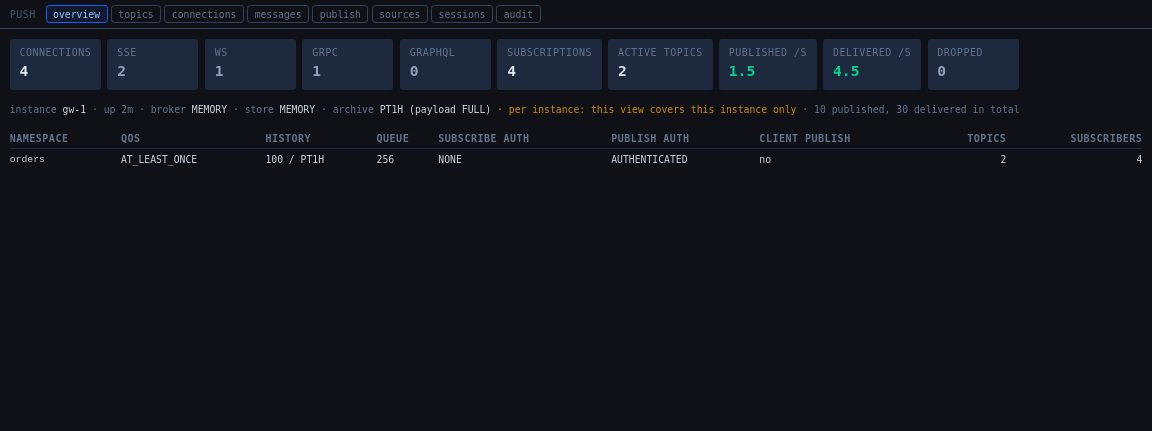
PushPanel › shows the deliveries of the selected event and exports the query as NDJSON from the push path
Click the button "messages" at (278, 14), box [247,5,309,23]
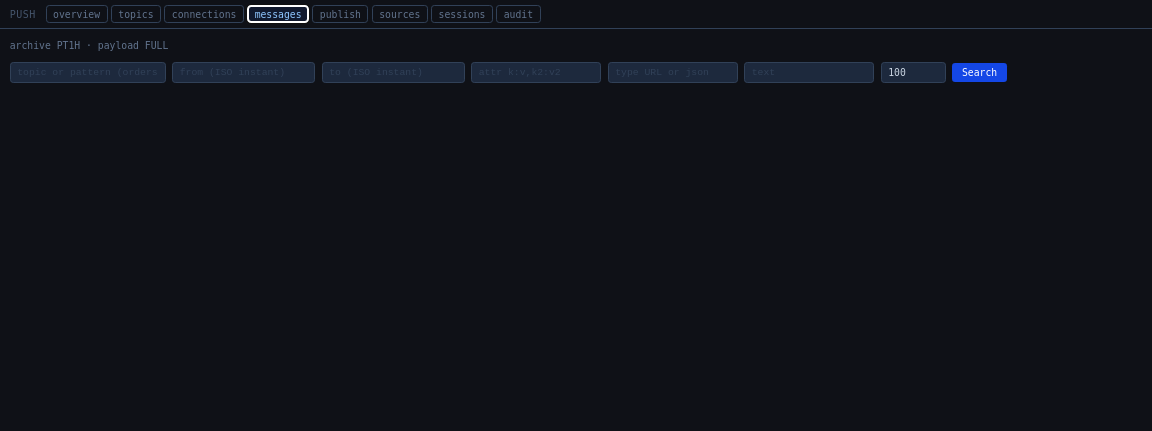
Type "orders:*" into the field labelled "topic or pattern (orders:*)" at (88, 72), box [10,62,166,83]
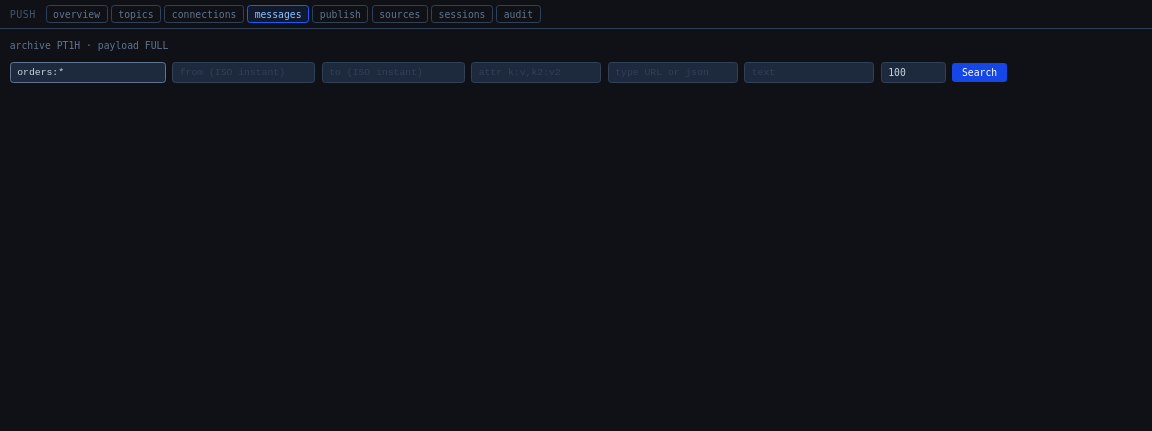
Click the button "Search" at (980, 72), box [952,62,1007,82]
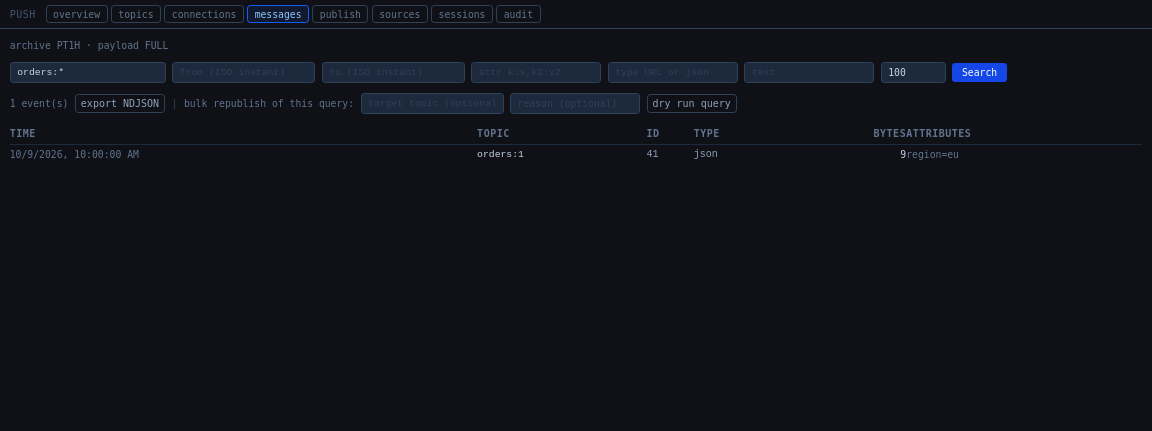
Click the text "region=eu" at (933, 155), box [906,144,1142,164]
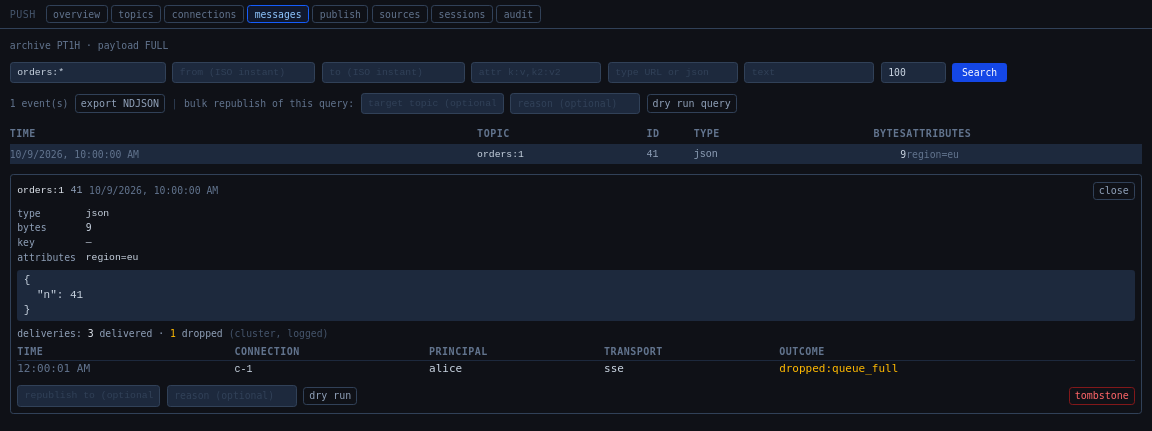
expect the text "dropped:queue_full" is shown: met, box [779,360,1135,379]
expect the text "c-1" is shown: met, box [234,360,429,379]
Click the button "export NDJSON" at (120, 104), box [75,94,165,113]
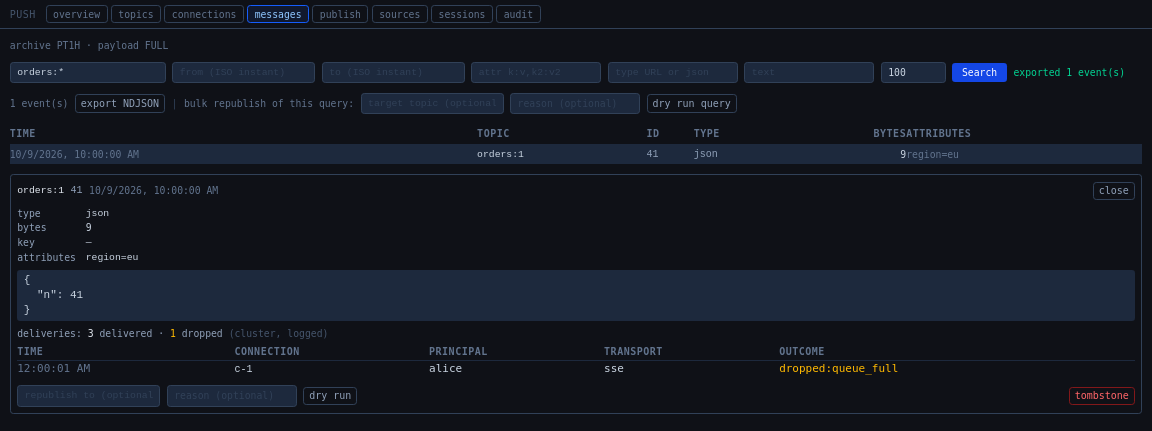
expect the text "exported 1 event(s)" is shown: met, box [1014,66,1125,79]
